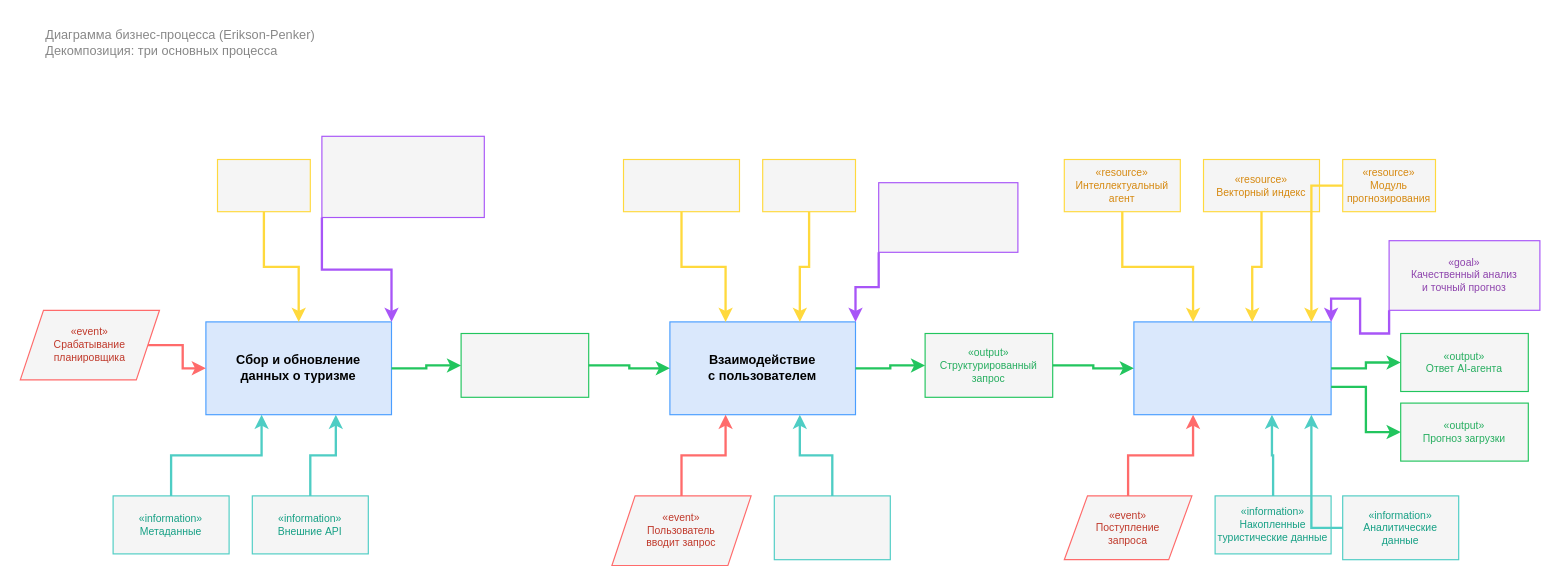
The diagram is 1560 pixels wide and 586 high, and some of its shapes have lost their labels. The box of each missing label's shape, as (x1, y1, x2, y2) in pixels:
«goal» Актуальные данные о средствах размещения и событиях: (321, 135, 484, 217)
«goal» Удобный ввод и получение ответа: (878, 182, 1018, 252)
«information» Запрос пользователя: (773, 495, 890, 560)
«output» Обновлённые данные о туризме: (460, 332, 589, 397)
«resource» База данных: (216, 158, 310, 212)
«resource» Веб-интерфейс: (622, 158, 740, 212)
«resource» Сервер приложений: (762, 158, 855, 212)
Анализ данных и формирование ответа: (1133, 321, 1331, 415)
